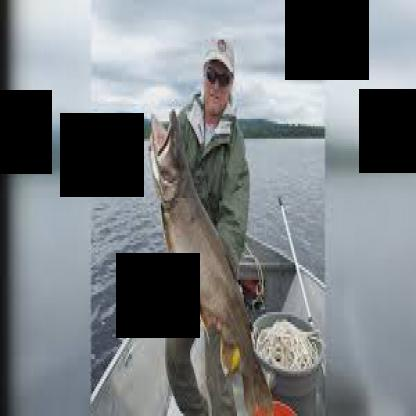fish: (143, 108, 268, 414)
